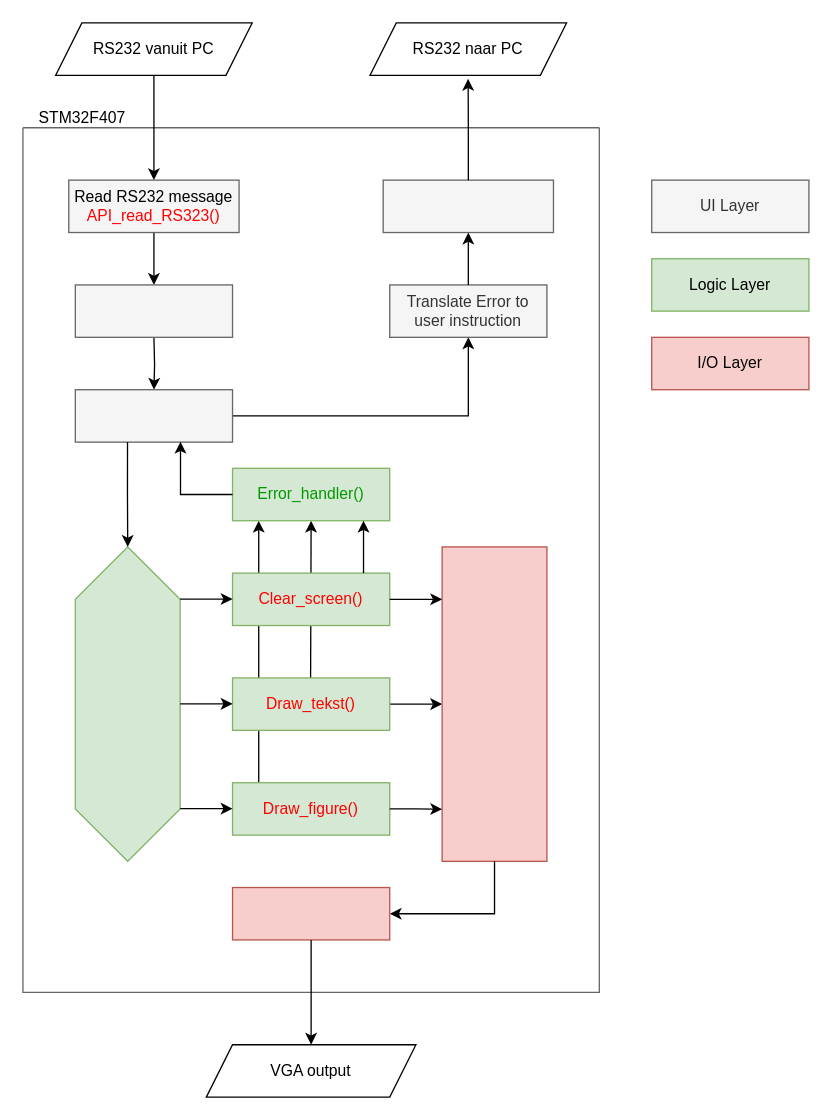
The diagram is 832 pixels wide and 1120 high, and some of its shapes have lost their labels. The shapes that lost their labels are listed below. From the top down, each one's centre as x and y in pixels, then its label:
At pixel 467 206: "Write RS232 message API_write_RS323()".
At pixel 153 310: "Translate string to command".
At pixel 153 415: "Execute command LogicLayer()".
At pixel 127 703: "Switch commands".
At pixel 494 703: "Video memory".
At pixel 310 913: "VGA driver".
